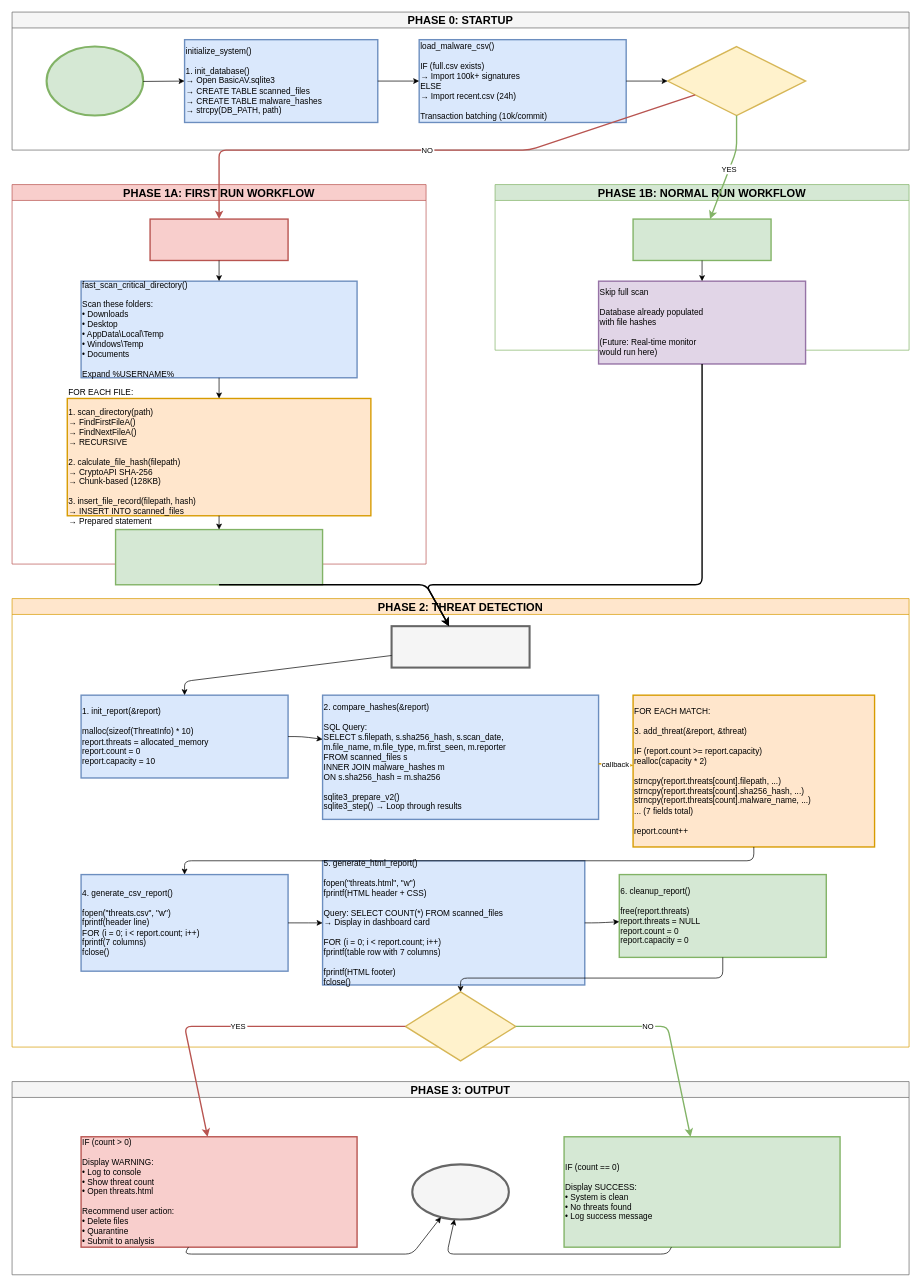
The diagram is 921 pixels wide and 1287 high, and some of its shapes have lost their labels. The centre of each missing label's shape, as x and y in pixels:
END Exit program: pixel 460 1191
first_run.txt EXISTS: pixel 701 239
first_run.txt NOT FOUND: pixel 218 239
is_first_run()? Check if Database\first_run.txt exists: pixel 736 81
mark_first_run_complete() Create file: Database\first_run.txt: pixel 219 557
MERGE POINT (Both paths continue here): pixel 460 646
START BasicAV.exe: pixel 94 80
Threats found?: pixel 460 1026
